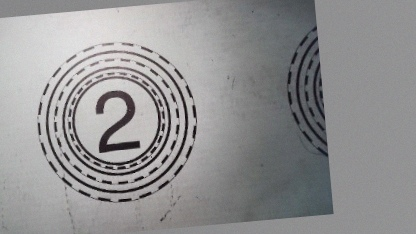2r: (26, 34, 205, 212)
